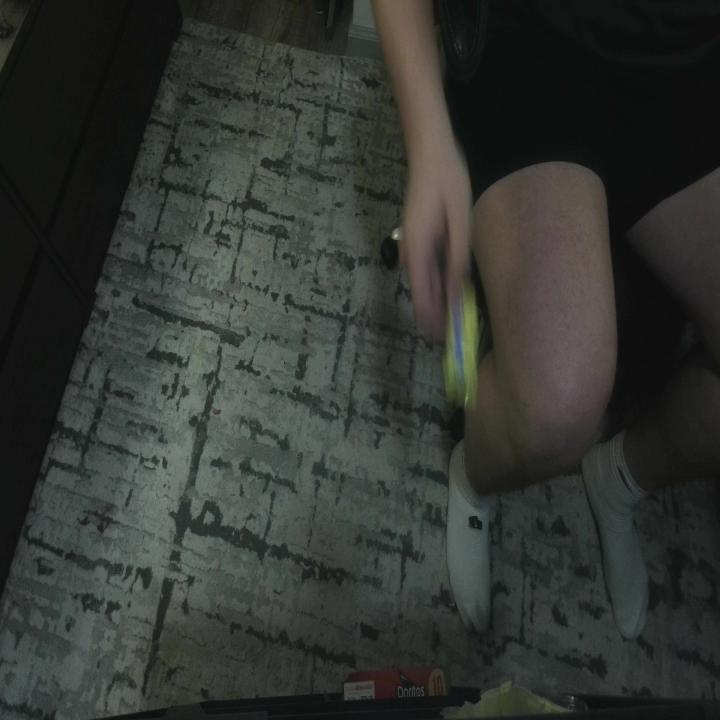Butter Finger: (449, 274, 478, 408)
